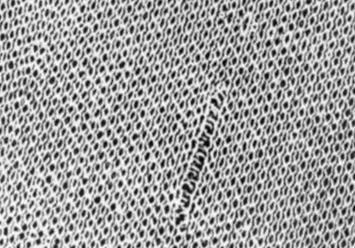slub: (170, 81, 236, 228)
